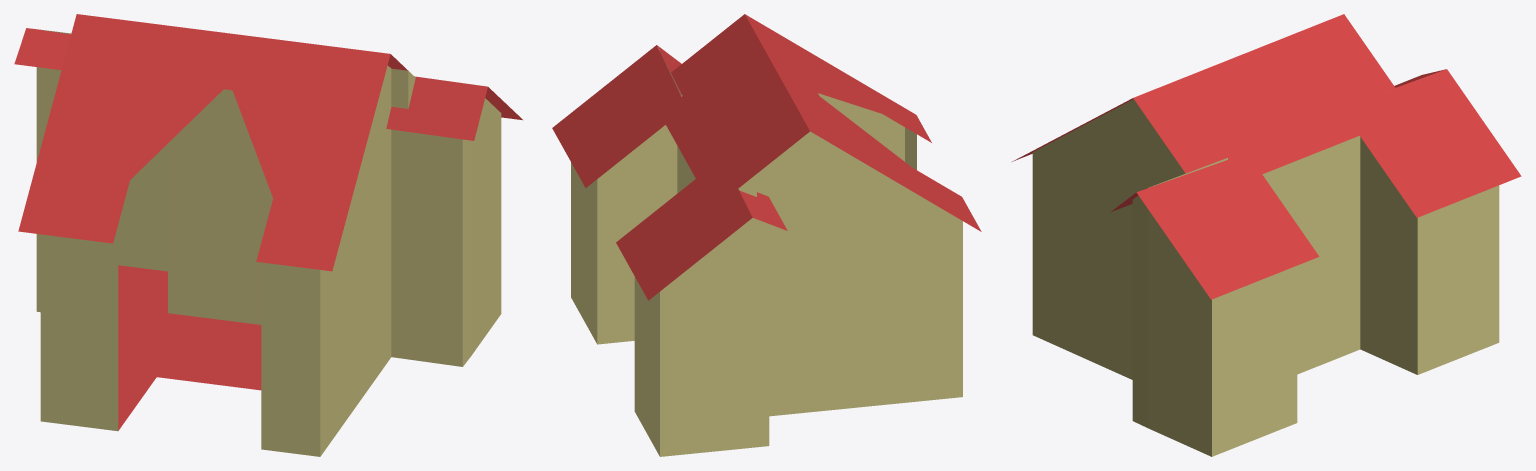
3 views of the same model, side by side, from view 1: azimuth 30°, elevation 25°; view 2: azimuth 150°, elevation 25°; view 3: azimuth 270°, elevation 25° (orthographic). The views are drawn at different scales.
Bounding box in the file's own units: 24.16 × 24.23 × 15.27.
